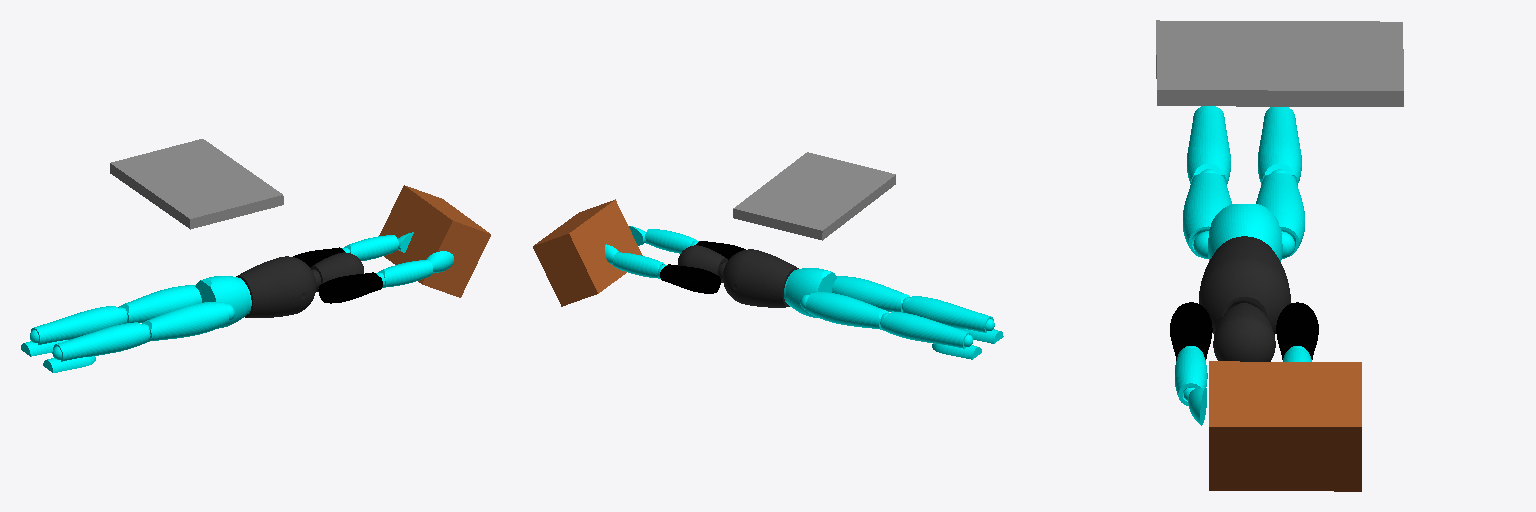
The robot description file, URDF, robot "human_5dof":
<?xml version="1.0" ?>
<robot name="human_5dof">
  <link name="world"/>
  <joint name="world_to_human" type="fixed">
    <origin rpy="1.57 0.0 0.0" xyz="0.0 0.0 0.0"/>
    <axis xyz="0 0 1"/>
    <parent link="world"/>
    <child link="foot"/>
  </joint>
  <material name="body_color">
    <texture/>
    <color rgba="0.005 0.005 0.005 0.6"/>
  </material>
  <link name="foot">
    <inertial>
      <mass value="2.0"/>
      <origin rpy="0 0 0" xyz="0.135 0 0.0"/>
      <inertia ixx="0.0009" ixy="0.0" ixz="0.0" iyy="0.0122" iyz="0.0" izz="0.0122"/>
    </inertial>
    <visual>
      <origin rpy="0 0 0" xyz="-0 0 0.1"/>
      <geometry>
        <mesh filename="package://human_urdf/meshes/foot_mesh.STL" scale="0.0060 0.0060 0.0060"/>
      </geometry>
      <material name="body_color">
        <texture/>
        <color rgba="0 1 1 0.5"/>
      </material>
    </visual>
    <collision>
      <origin rpy="0 0 0" xyz="-0 0 0.1"/>
      <geometry>
        <mesh filename="package://human_urdf/meshes/foot_mesh.STL" scale="0.0060 0.0060 0.0060"/>
      </geometry>
    </collision>
    <visual>
      <origin rpy="0 0 0" xyz="0 0.0 -0.1"/>
      <geometry>
        <mesh filename="package://human_urdf/meshes/foot_mesh.STL" scale="0.0060 0.0060 0.0060"/>
      </geometry>
      <material name="body_color">
        <texture/>
        <color rgba="0 1 1 0.5"/>
      </material>
    </visual>
    <collision>
      <origin rpy="0 0 0" xyz="-0 0 -0.1"/>
      <geometry>
        <mesh filename="package://human_urdf/meshes/foot_mesh.STL" scale="0.0060 0.0060 0.0060"/>
      </geometry>
    </collision>
  </link>
  <joint name="ankle_Z" type="revolute">
    <origin rpy="0 0 0" xyz="0.0 0.0 0.0"/>
    <axis xyz="0 0 1"/>
    <parent link="foot"/>
    <child link="lowerleg"/>
    <limit effort="500.0" lower="-3.14159" upper="3.14159" velocity="200.0"/>
  </joint>
  <link name="lowerleg">
    <inertial>
      <mass value="6.79"/>
      <origin rpy="0 0 0" xyz="0.202 0.0 0.0"/>
      <inertia ixx="0.03" ixy="-0.0" ixz="0.0" iyy="0.1250" iyz="0.0" izz="0.1250"/>
    </inertial>
    <visual>
      <origin rpy="0 0 -1.57" xyz="0.45 0.0 0.1"/>
      <geometry>
        <mesh filename="package://human_urdf/meshes/lowerleg_mesh.STL" scale="0.0063 0.0065 0.007"/>
      </geometry>
      <material name="body_color">
        <texture/>
        <color rgba="0 1 1 0.5"/>
      </material>
    </visual>
    <collision>
      <origin rpy="0 0 -1.57" xyz="0.45 0.0 0.1"/>
      <geometry>
        <mesh filename="package://human_urdf/meshes/lowerleg_mesh.STL" scale="0.0063 0.0065 0.007"/>
      </geometry>
    </collision>
    <visual>
      <origin rpy="0 0 -1.57" xyz="0.45 0.0 -0.1"/>
      <geometry>
        <mesh filename="package://human_urdf/meshes/lowerleg_mesh.STL" scale="0.0063 0.0065 0.007"/>
      </geometry>
      <material name="body_color">
        <texture/>
        <color rgba="0 1 1 0.5"/>
      </material>
    </visual>
    <collision>
      <origin rpy="0 0 -1.57" xyz="0.45 0.0 -0.1"/>
      <geometry>
        <mesh filename="package://human_urdf/meshes/lowerleg_mesh.STL" scale="0.0063 0.0065 0.007"/>
      </geometry>
    </collision>
  </link>
  <joint name="knee_Z" type="revolute">
    <origin rpy="0 -0 0" xyz="0.3751 0.0 0.0"/>
    <axis xyz="0 0 1"/>
    <parent link="lowerleg"/>
    <child link="upperleg"/>
    <limit effort="500.0" lower="-0.10" upper="3.14159" velocity="200.0"/>
  </joint>
  <link name="upperleg">
    <inertial>
      <mass value="14.84"/>
      <origin rpy="0 -0 0" xyz="0.185 0.0 0.0"/>
      <inertia ixx="0.13" ixy="0.0" ixz="0.0" iyy="0.2293" iyz="0.0" izz="0.2293"/>
    </inertial>
    <visual>
      <origin rpy="0.0 0 -1.57" xyz="0.05 0.0 0.1"/>
      <geometry>
        <mesh filename="package://human_urdf/meshes/knee_mesh.STL" scale="0.006 0.006 0.006"/>
      </geometry>
      <material name="body_color">
        <texture/>
        <color rgba="0 1 1 0.5"/>
      </material>
    </visual>
    <visual>
      <origin rpy="0.0 0 -1.57" xyz="0.05 0.0 -0.1"/>
      <geometry>
        <mesh filename="package://human_urdf/meshes/knee_mesh.STL" scale="0.006 0.006 0.006"/>
      </geometry>
      <material name="body_color">
        <texture/>
        <color rgba="0 1 1 0.5"/>
      </material>
    </visual>
    <visual>
      <origin rpy="0 0 -1.57" xyz="0.47 0.0 0.1"/>
      <geometry>
        <mesh filename="package://human_urdf/meshes/upperleg_mesh.STL" scale="0.0063 0.0065 0.007"/>
      </geometry>
      <material name="body_color">
        <texture/>
        <color rgba="0 1 1 0.5"/>
      </material>
    </visual>
    <collision>
      <origin rpy="0 0 -1.57" xyz="0.47 0.0 0.1"/>
      <geometry>
        <mesh filename="package://human_urdf/meshes/upperleg_mesh.STL" scale="0.0063 0.0065 0.007"/>
      </geometry>
    </collision>
    <visual>
      <origin rpy="0 0 -1.57" xyz="0.47 0.0 -0.1"/>
      <geometry>
        <mesh filename="package://human_urdf/meshes/upperleg_mesh.STL" scale="0.0063 0.0065 0.007"/>
      </geometry>
      <material name="body_color">
        <texture/>
        <color rgba="0 1 1 0.5"/>
      </material>
    </visual>
    <collision>
      <origin rpy="0 0 -1.57" xyz="0.47 0.0 -0.1"/>
      <geometry>
        <mesh filename="package://human_urdf/meshes/upperleg_mesh.STL" scale="0.0063 0.0065 0.007"/>
      </geometry>
    </collision>
  </link>
  <joint name="lumbar_Z" type="revolute">
    <origin rpy="0 -0 0" xyz="0.4661 0.0 0.0"/>
    <axis xyz="0 0 1"/>
    <parent link="upperleg"/>
    <child link="trunk"/>
    <limit effort="500.0" lower="-3.14" upper="3.14159" velocity="200.0"/>
  </joint>
  <link name="trunk">
    <inertial>
      <mass value="41.83"/>
      <origin rpy="0 -0 0" xyz="0.544 0.0 -0.0"/>
      <inertia ixx="0.3" ixy="0" ixz="0" iyy="4.772" iyz="0" izz="4.772"/>
    </inertial>
    <visual>
      <origin rpy="0 0 -1.57" xyz="0.05 0.0 0.0"/>
      <geometry>
        <mesh filename="package://human_urdf/meshes/pelvis_mesh.STL" scale="0.006 0.0055 0.0055"/>
      </geometry>
      <material name="body_color">
        <texture/>
        <color rgba="0 1 1 0.5"/>
      </material>
    </visual>
    <collision>
      <origin rpy="0 0 -1.57" xyz="0.05 0.0 0.0"/>
      <geometry>
        <mesh filename="package://human_urdf/meshes/pelvis_mesh.STL" scale="0.006 0.0055 0.0055"/>
      </geometry>
    </collision>
    <visual>
      <origin rpy="0 -0 -1.57" xyz="0.06 0.0 0.0"/>
      <geometry>
        <mesh filename="package://human_urdf/meshes/abdomen_mesh.STL" scale="0.0055 0.0055 0.0055"/>
      </geometry>
      <material name="body_color">
        <texture/>
        <color rgba="0 1 1 0.5"/>
      </material>
    </visual>
    <visual>
      <origin rpy="0 0 -1.57" xyz="0.0 0.0 0.0"/>
      <geometry>
        <mesh filename="package://human_urdf/meshes/torso_mesh.STL" scale="0.0065 0.0065 0.0065"/>
      </geometry>
      <material name="body_color">
        <texture/>
        <color rgba="0.2 0.2 0.2 0.2"/>
      </material>
    </visual>
    <collision>
      <origin rpy="0 0 -1.57" xyz="0.0 0.0 0.0"/>
      <geometry>
        <mesh filename="package://human_urdf/meshes/torso_mesh.STL" scale="0.0065 0.0065 0.0065"/>
      </geometry>
    </collision>
    <visual>
      <origin rpy="0 0 -1.57" xyz="0.5 0.0 0.0"/>
      <geometry>
        <mesh filename="package://human_urdf/meshes/head_mesh.STL" scale="0.0055 0.0055 0.0055"/>
      </geometry>
      <material name="body_color">
        <texture/>
        <color rgba="0.2 0.2 0.2 0.5"/>
      </material>
    </visual>
    <visual>
      <origin rpy="0 0.0 0" xyz="0.5 -0.0 0.0"/>
      <geometry>
        <mesh filename="package://human_urdf/meshes/neck_mesh.STL" scale="0.005 0.005 0.005"/>
      </geometry>
      <material name="body_color">
        <texture/>
        <color rgba="0.2 0.2 0.2 0.7"/>
      </material>
    </visual>
  </link>
  <joint name="shoulder_Z" type="revolute">
    <origin rpy="0 -0 0" xyz="0.4305 0.0 0.0"/>
    <axis xyz="0 0 1"/>
    <parent link="trunk"/>
    <child link="upperarm"/>
    <limit effort="500.0" lower="-4.01" upper="1.5708" velocity="200.0"/>
  </joint>
  <link name="upperarm">
    <inertial>
      <mass value="3.94"/>
      <origin rpy="0 -0 0" xyz="0.146 0.0 0.0"/>
      <inertia ixx="0.011874" ixy="0.0" ixz="0.0" iyy="0.0380" iyz="0" izz="0.0380"/>
    </inertial>
    <visual>
      <origin rpy="0 0 1.57" xyz="0.0 0.0 0.15"/>
      <geometry>
        <mesh filename="package://human_urdf/meshes/shoulder_mesh.STL" scale="0.0055 0.0055 0.0055"/>
      </geometry>
      <material name="body_color">
        <texture/>
        <color rgba="0 1 1 0.5"/>
      </material>
    </visual>
    <visual>
      <origin rpy="0 0 1.57" xyz="0.0 0.0 0.15"/>
      <geometry>
        <mesh filename="package://human_urdf/meshes/upperarm_mesh.STL" scale="0.0063 0.0060 0.007"/>
      </geometry>
      <material name="body_color"/>
    </visual>
    <collision>
      <origin rpy="0 0 1.57" xyz="0.0 0.0 0.15"/>
      <geometry>
        <mesh filename="package://human_urdf/meshes/upperarm_mesh.STL" scale="0.0063 0.0060 0.007"/>
      </geometry>
    </collision>
    <visual>
      <origin rpy="0 0 1.57" xyz="0.0 0.0 -0.15"/>
      <geometry>
        <mesh filename="package://human_urdf/meshes/shoulder_mesh.STL" scale="0.0055 0.0055 0.0055"/>
      </geometry>
      <material name="body_color">
        <texture/>
        <color rgba="0 1 1 0.5"/>
      </material>
    </visual>
    <visual>
      <origin rpy="0 0 1.57" xyz="0.0 0.0 -0.15"/>
      <geometry>
        <mesh filename="package://human_urdf/meshes/upperarm_mesh.STL" scale="0.0063 0.0060 0.007"/>
      </geometry>
      <material name="body_color"/>
    </visual>
    <collision>
      <origin rpy="0 0 1.57" xyz="0.0 0.0 -0.15"/>
      <geometry>
        <mesh filename="package://human_urdf/meshes/upperarm_mesh.STL" scale="0.0063 0.0060 0.007"/>
      </geometry>
    </collision>
  </link>
  <joint name="elbow_Z" type="revolute">
    <origin rpy="0 -0 0" xyz="0.3052 0.0 0.0"/>
    <axis xyz="0 0 1"/>
    <parent link="upperarm"/>
    <child link="lowerarm"/>
    <limit effort="500.0" lower="-0.10" upper="2.96706" velocity="200.0"/>
  </joint>
  <link name="lowerarm">
    <inertial>
      <mass value="2.34"/>
      <origin rpy="0 -0 0" xyz="0.116 0.0 0.0"/>
      <inertia ixx="0.007479" ixy="0" ixz="0" iyy="0.0143" iyz="0.0" izz="0.0143"/>
    </inertial>
    <visual>
      <origin rpy="0 0 1.57" xyz="0.02 0. 0.15"/>
      <geometry>
        <mesh filename="package://human_urdf/meshes/elbow_mesh.STL" scale="0.0055 0.0055 0.0055"/>
      </geometry>
      <material name="body_color">
        <texture/>
        <color rgba="0 1 1 0.5"/>
      </material>
    </visual>
    <visual>
      <origin rpy="0 0 1.57" xyz="0.03 0.0 0.15"/>
      <geometry>
        <mesh filename="package://human_urdf/meshes/lowerarm_mesh.STL" scale="0.0060 0.0060 0.0060"/>
      </geometry>
      <material name="body_color">
        <texture/>
        <color rgba="0 1 1 0.5"/>
      </material>
    </visual>
    <collision>
      <origin rpy="0 0 1.57" xyz="0.03 0.0 0.15"/>
      <geometry>
        <mesh filename="package://human_urdf/meshes/lowerarm_mesh.STL" scale="0.0060 0.0060 0.0060"/>
      </geometry>
    </collision>
    <visual>
      <origin rpy="0 0 1.57" xyz="0.02 0.0 -0.15"/>
      <geometry>
        <mesh filename="package://human_urdf/meshes/elbow_mesh.STL" scale="0.0055 0.0055 0.0055"/>
      </geometry>
      <material name="body_color">
        <texture/>
        <color rgba="0 1 1 0.5"/>
      </material>
    </visual>
    <visual>
      <origin rpy="0 0 1.57" xyz="0.03 0.0 -0.15"/>
      <geometry>
        <mesh filename="package://human_urdf/meshes/lowerarm_mesh.STL" scale="0.0060 0.0060 0.0060"/>
      </geometry>
      <material name="body_color">
        <texture/>
        <color rgba="0 1 1 0.5"/>
      </material>
    </visual>
    <collision>
      <origin rpy="0 0 1.57" xyz="0.03 0.0 -0.15"/>
      <geometry>
        <mesh filename="package://human_urdf/meshes/lowerarm_mesh.STL" scale="0.0060 0.0060 0.0060"/>
      </geometry>
    </collision>
  </link>
  <joint name="hand_fixed" type="fixed">
    <origin rpy="0 -0 0" xyz="0.2173 0.0 0.0"/>
    <axis xyz="0 0 1"/>
    <parent link="lowerarm"/>
    <child link="hand"/>
    <limit effort="500.0" lower="-1.5708" upper="1.5708" velocity="200.0"/>
  </joint>
  <link name="hand">
    <inertial>
      <mass value="0.88"/>
      <origin rpy="0 -0 0" xyz="0.055 0 0"/>
      <inertia ixx="0.0" ixy="0.0" ixz="0.0" iyy="0.0009" iyz="0.0" izz="0.0009"/>
    </inertial>
    <visual>
      <origin rpy="0 1.57 1.57" xyz="0.035 0.0 0.15"/>
      <geometry>
        <mesh filename="package://human_urdf/meshes/hand_mesh.STL" scale="0.0060 0.0060 0.0060"/>
      </geometry>
      <material name="body_color">
        <texture/>
        <color rgba="0 1 1 0.5"/>
      </material>
    </visual>
    <visual>
      <origin rpy="0 -1.57 1.57" xyz="0.035 0.0 -0.15"/>
      <geometry>
        <mesh filename="package://human_urdf/meshes/hand_mesh.STL" scale="0.0060 0.0060 0.0060"/>
      </geometry>
      <material name="body_color">
        <texture/>
        <color rgba="0 1 1 0.5"/>
      </material>
    </visual>
  </link>
  <joint name="hand_to_box" type="fixed">
    <parent link="hand"/>
    <child link="box"/>
    <origin xyz="0.225469 -0.017 -0.115" rpy="0 0 1.05"/>
  </joint>
  <!-- ======================================================= -->
  <!-- BOX DEFINITION (attached to the human's hand)         -->
  <!-- ======================================================= -->
  <link name="box">
    <inertial>
      <origin xyz="0 0 0" rpy="0 0 0"/>
      <mass value="2.0"/>
      <inertia ixx="0.5" iyy="0.5" izz="0.5" ixy="0" ixz="0" iyz="0"/>
    </inertial>

    <visual>
      <origin xyz="0 0 0" rpy="0 0 0"/>
      <geometry>
        <!-- Bounding box for the object: dimensions ~ 0.3149 x 0.4317 x 0.2267 -->
        <box size="0.314917 0.226704 0.431696"/>
      </geometry>
      <material name="Brown">
        <color rgba="0.7 0.4 0.2 1.0"/>
      </material>
    </visual>

    <collision>
      <origin xyz="0 0 0" rpy="0 0 0"/>
      <geometry>
        <box size="0.314917 0.226704 0.431696"/>
      </geometry>
    </collision>
  </link>

  <!-- ======================================================= -->
  <!-- TABLE DEFINITION                                     -->
  <!-- ======================================================= -->
  <!-- Using the three markers (NEAR, FARR, FARL), we compute a centroid and approximate orientation.
       Here we use the centroid as the table's pose relative to the world. -->
  <link name="table">
    <inertial>
      <origin xyz="0 0 0" rpy="0 0 0"/>
      <mass value="10.0"/>
      <inertia ixx="1.0" iyy="1.0" izz="1.0" ixy="0" ixz="0" iyz="0"/>
    </inertial>

    <visual>
      <!-- For simplicity, we define the table geometry in its own frame -->
      <origin xyz="0 0 0" rpy="0 0 0"/>
      <!-- Approximate bounding box dimensions computed from markers -->
      <geometry>
        <!-- For example, length ≈ 0.4763, width ≈ 0.6976, thickness = 0.05 -->
        <box size="0.4763 0.6976 0.05"/>
      </geometry>
      <material name="Grey">
        <color rgba="0.6 0.6 0.6 1.0"/>
      </material>
    </visual>

    <collision>
      <origin xyz="0 0 0" rpy="0 0 0"/>
      <geometry>
        <box size="0.4763 0.6976 0.05"/>
      </geometry>
    </collision>
  </link>

  <!-- Joint attaching the table to the world using the computed table frame.
       From your markers, the centroid was computed as:
         (0.893744, -0.011544, 0.579767)
       and the computed rpy was approximately (-0.00932, -0.01177, 0.00935). -->
  <joint name="world_to_table" type="fixed">
    <parent link="world"/>
    <child link="table"/>
    <origin xyz="0.813744 0.100544 0.549767"
            rpy="-0.00932 -0.01177 0.00935"/>
  </joint>
</robot>

--- Render facts (derived) ---
Views: 3 orthographic renders of the robot side by side, from view 1: azimuth 30°, elevation 25°; view 2: azimuth 150°, elevation 25°; view 3: azimuth 270°, elevation 25°.
Robot: human_5dof — 10 links, 9 joints (5 revolute, 4 fixed); root link world; default pose: every joint at zero.
Links seen in each view (by area): view 1: table, box, trunk, upperleg, lowerleg, lowerarm, upperarm, foot, hand; view 2: table, box, trunk, upperleg, lowerleg, lowerarm, upperarm, foot; view 3: table, box, trunk, lowerleg, upperleg, upperarm, lowerarm, hand.
Link boxes in pixels (x1,y1,x2,y2): table: (110,139,283,229); box: (379,185,490,297); trunk: (195,252,363,328); upperleg: (118,285,234,341); lowerleg: (31,306,149,361); lowerarm: (342,235,432,287); upperarm: (293,247,382,303); foot: (21,330,95,372); hand: (398,232,453,272); table: (733,152,895,240); box: (533,199,642,306); trunk: (678,245,836,317); upperleg: (800,276,910,329); lowerleg: (881,296,993,348); lowerarm: (613,229,698,278); upperarm: (660,241,745,293); foot: (932,319,1003,359); table: (1156,20,1403,106); box: (1209,361,1361,491); trunk: (1199,204,1290,361); lowerleg: (1187,106,1301,184); upperleg: (1183,169,1304,258); upperarm: (1170,302,1318,360); lowerarm: (1175,346,1311,405); hand: (1184,388,1206,425).
Size in the robot's own frame: 2.25 by 0.7025 by 0.7911 metres.
21 mesh visuals loaded from 14 distinct referenced files (13 binary STL); not drawn: 2 (reference not matched to a file when rendering).
